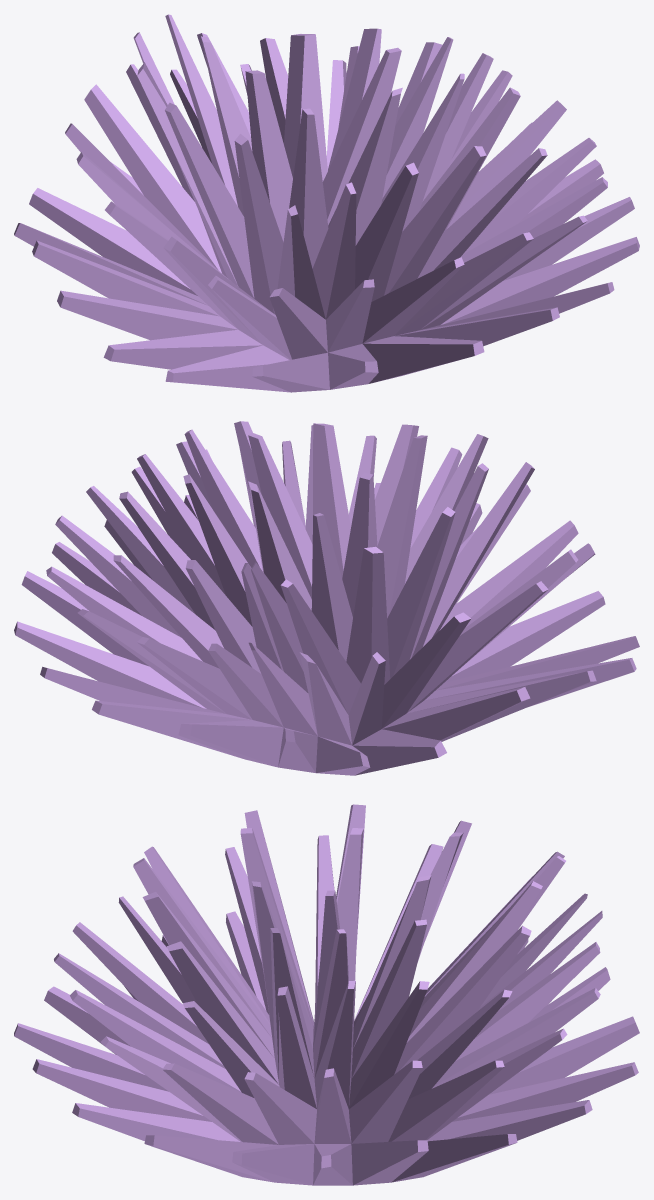
The model's file is Lithium.fbx.
3 views of the same model, one above another, from view 1: azimuth 30°, elevation 25°; view 2: azimuth 150°, elevation 25°; view 3: azimuth 270°, elevation 25° (orthographic). The views are drawn at different scales.
Parts seen in each view (by area): view 1: Cube; view 2: Cube; view 3: Cube.
Boxes of the visible parts, x1=… form: Cube: x1=14, y1=14, x2=639, y2=392; Cube: x1=14, y1=421, x2=639, y2=775; Cube: x1=14, y1=804, x2=639, y2=1185.
Bounding box in the file's own units: 176 × 85.03 × 172.
